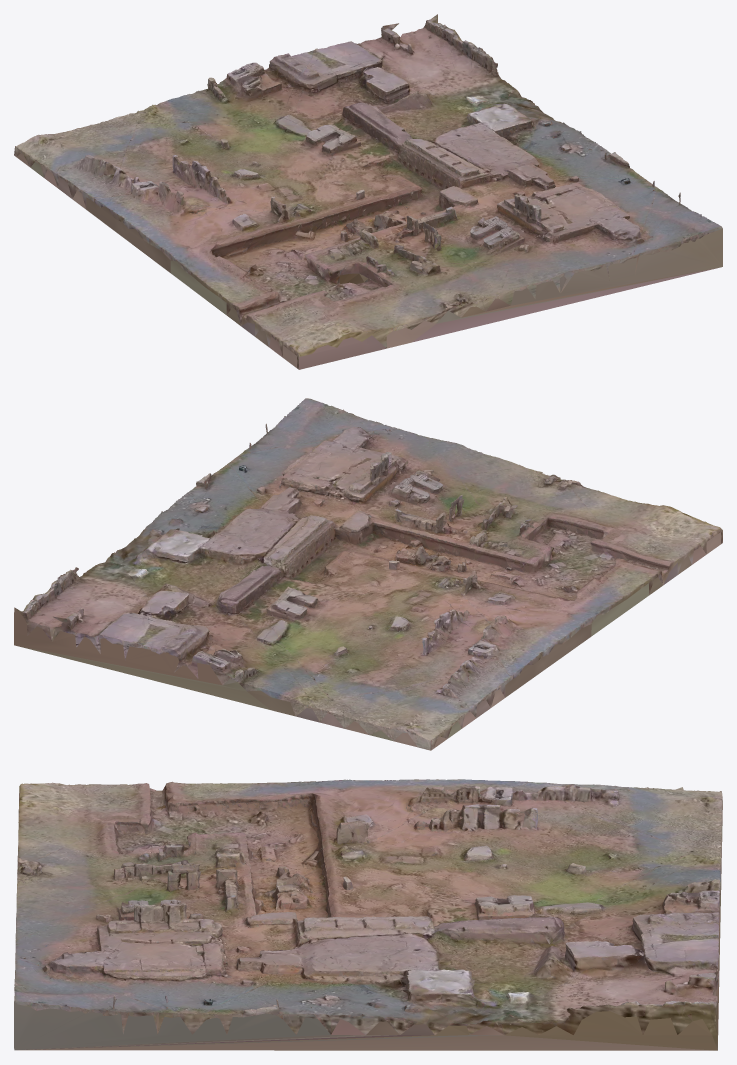
File: pumapunku-scan.glb
The picture shows the model from 3 angles, top to bottom: view 1: azimuth 30°, elevation 25°; view 2: azimuth 150°, elevation 25°; view 3: azimuth 270°, elevation 25°; orthographic projection. The views are drawn at different scales.
Parts seen in each view (by area): view 1: Object_2; view 2: Object_2; view 3: Object_2.
Part boxes in pixels (x1=…): Object_2: x1=14, y1=14, x2=722, y2=369; Object_2: x1=14, y1=398, x2=722, y2=750; Object_2: x1=14, y1=779, x2=722, y2=1050.
Bounding box in the file's own units: 34.99 × 4.41 × 41.46.
1 material, 1 textured.
